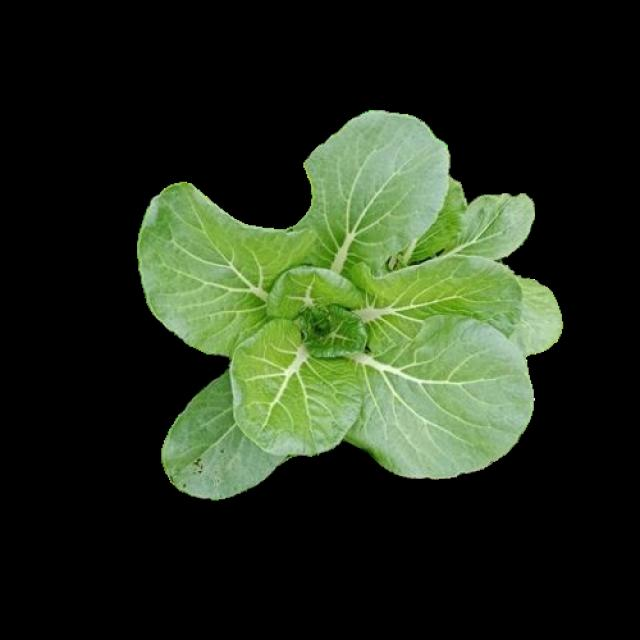mature: (138, 112, 562, 500)
unhealthy: (164, 354, 301, 501)
